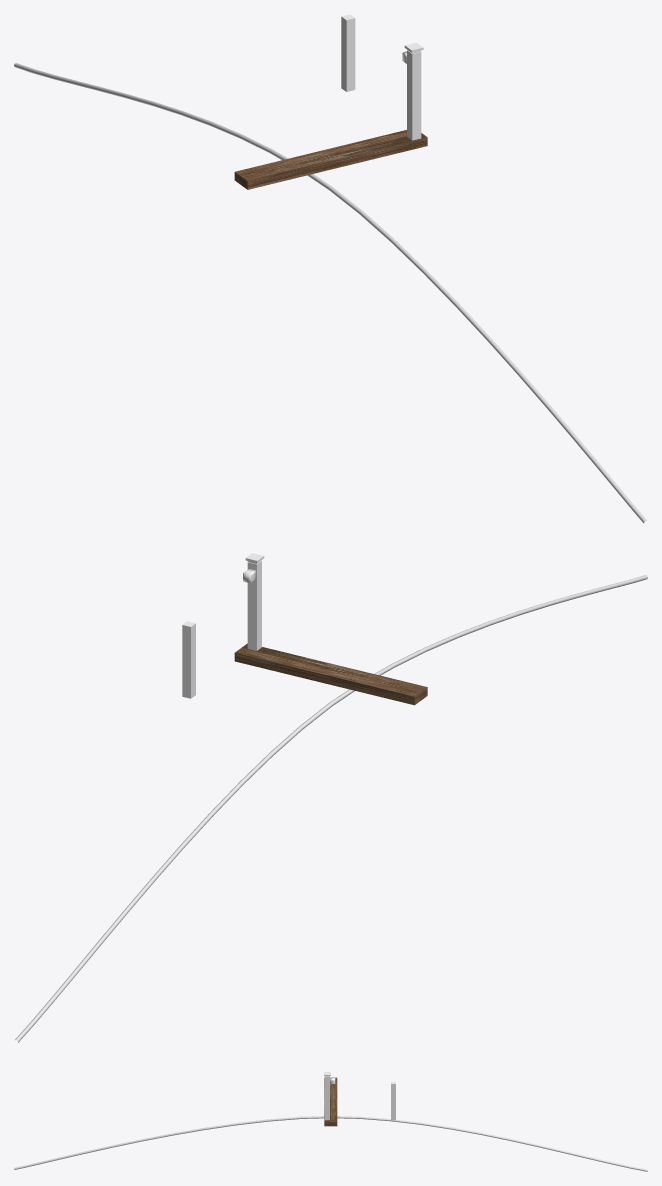
The model's file is wukong-bridge-original.glb.
3 views of the same model, one above another, from view 1: azimuth 30°, elevation 25°; view 2: azimuth 150°, elevation 25°; view 3: azimuth 270°, elevation 25° (orthographic). The views are drawn at different scales.
Parts seen in each view (by area): view 1: BezierCurve.002, bridge_mesh_3, bridge_mesh_0, bridge_mesh_2; view 2: bridge_mesh_3, BezierCurve.002, bridge_mesh_0, bridge_mesh_2; view 3: BezierCurve.002, bridge_mesh_3, bridge_mesh_0, bridge_mesh_2.
Part boxes in pixels (left/top/right/bottom): BezierCurve.002: left=14, top=63, right=646, bottom=523; bridge_mesh_3: left=234, top=130, right=427, bottom=189; bridge_mesh_0: left=404, top=42, right=423, bottom=140; bridge_mesh_2: left=341, top=14, right=355, bottom=91; bridge_mesh_3: left=234, top=643, right=427, bottom=705; BezierCurve.002: left=15, top=575, right=647, bottom=1042; bridge_mesh_0: left=245, top=553, right=264, bottom=650; bridge_mesh_2: left=182, top=621, right=195, bottom=698; BezierCurve.002: left=14, top=1116, right=647, bottom=1171; bridge_mesh_3: left=324, top=1077, right=337, bottom=1126; bridge_mesh_0: left=324, top=1072, right=330, bottom=1120; bridge_mesh_2: left=391, top=1082, right=395, bottom=1120.
Size of the model in its own units: 1.98 by 2.46 by 12.
Materials: 2 (1 with a texture image).
